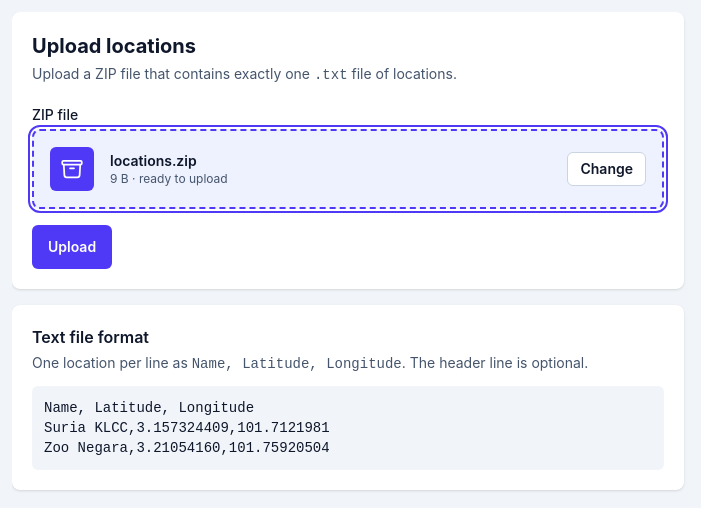
Test: UploadPage › shows a confirmation for three seconds, then adds the locations to the map
Earlier steps of the test are not shown.
Later steps or results of the test are not shown.
Click the button "Upload" at (72,247), box [32,225,112,269]
Wait 3000 ms
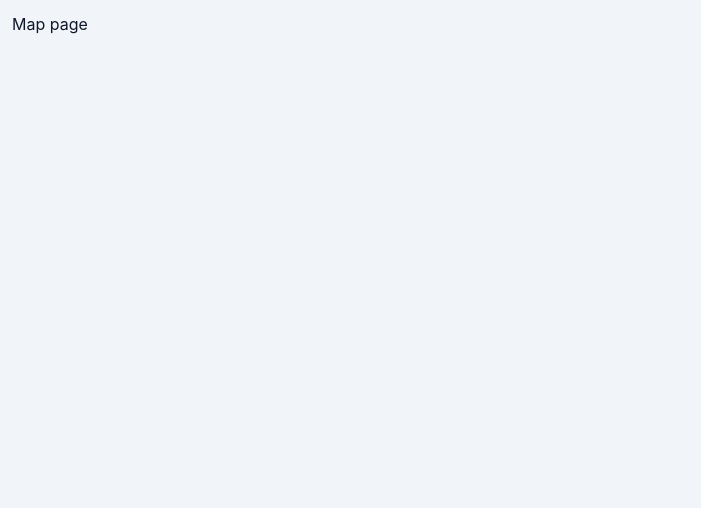
Expected: the heading "Map page" is shown, [12,14,88,34]
